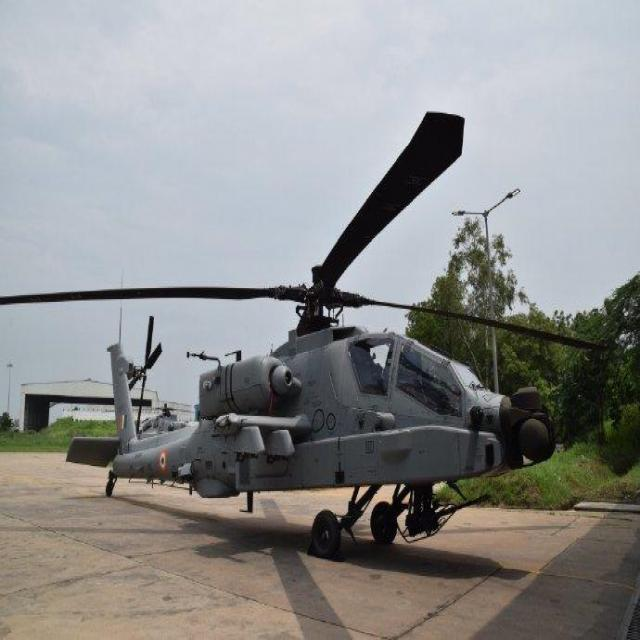MIL_HELO: (0, 103, 621, 572)
